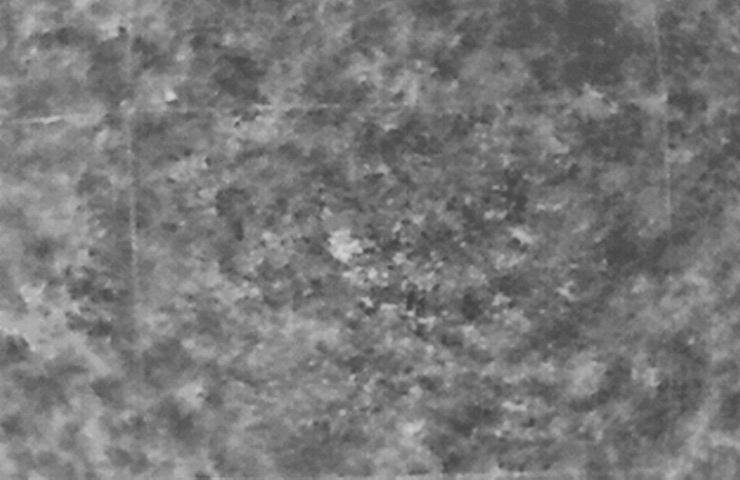landmines: (327, 226, 368, 267)
